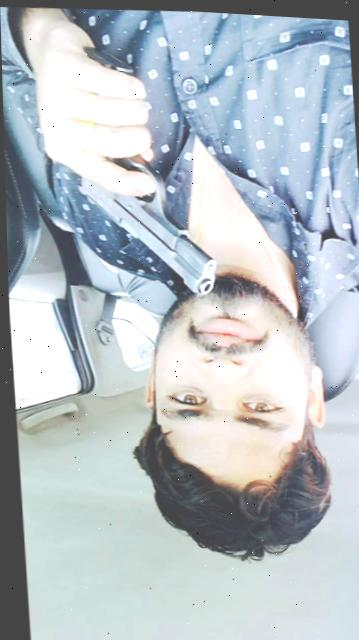pistol: (72, 140, 217, 292)
